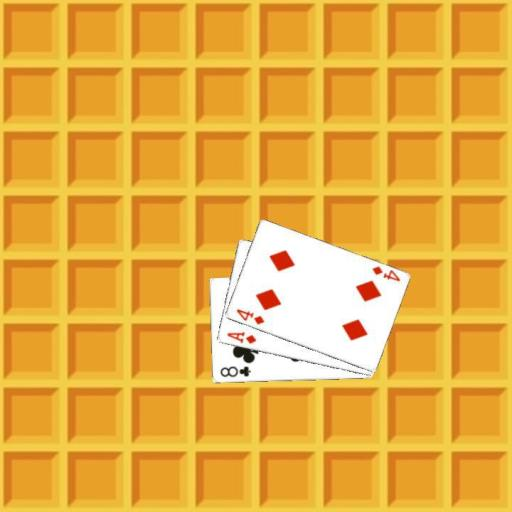4D: (368, 263, 401, 283), (233, 306, 265, 326)
8C: (217, 363, 252, 379)
AD: (224, 329, 257, 346)
